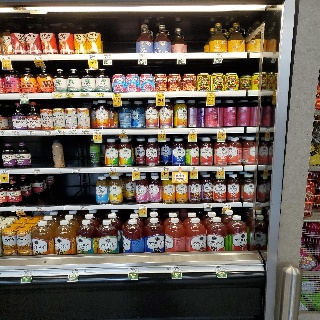All PRICE TAGS: (22, 270, 34, 276), (213, 52, 223, 58), (69, 269, 79, 275), (215, 266, 226, 271), (138, 53, 147, 59), (171, 267, 181, 272), (128, 268, 138, 273), (10, 131, 20, 136), (177, 53, 187, 58), (56, 130, 66, 135), (67, 130, 77, 135), (80, 130, 90, 135), (27, 131, 36, 136), (20, 94, 29, 99), (88, 54, 97, 59), (103, 54, 112, 59), (156, 92, 165, 97), (157, 129, 166, 134), (217, 128, 226, 133), (72, 168, 81, 173), (2, 55, 10, 60), (112, 92, 120, 97), (207, 91, 215, 96), (93, 129, 101, 134), (119, 129, 127, 134), (132, 167, 140, 172), (217, 166, 225, 171), (32, 169, 41, 173), (43, 131, 52, 135), (53, 93, 62, 97), (65, 93, 74, 97), (95, 93, 104, 97), (188, 129, 197, 133), (161, 167, 170, 171), (15, 207, 23, 211), (35, 207, 43, 211), (34, 55, 42, 59), (109, 168, 117, 172), (190, 167, 198, 171), (79, 206, 87, 210), (139, 204, 147, 208), (223, 203, 231, 207), (1, 170, 8, 174), (203, 204, 211, 207), (0, 131, 4, 136), (80, 93, 89, 95)
